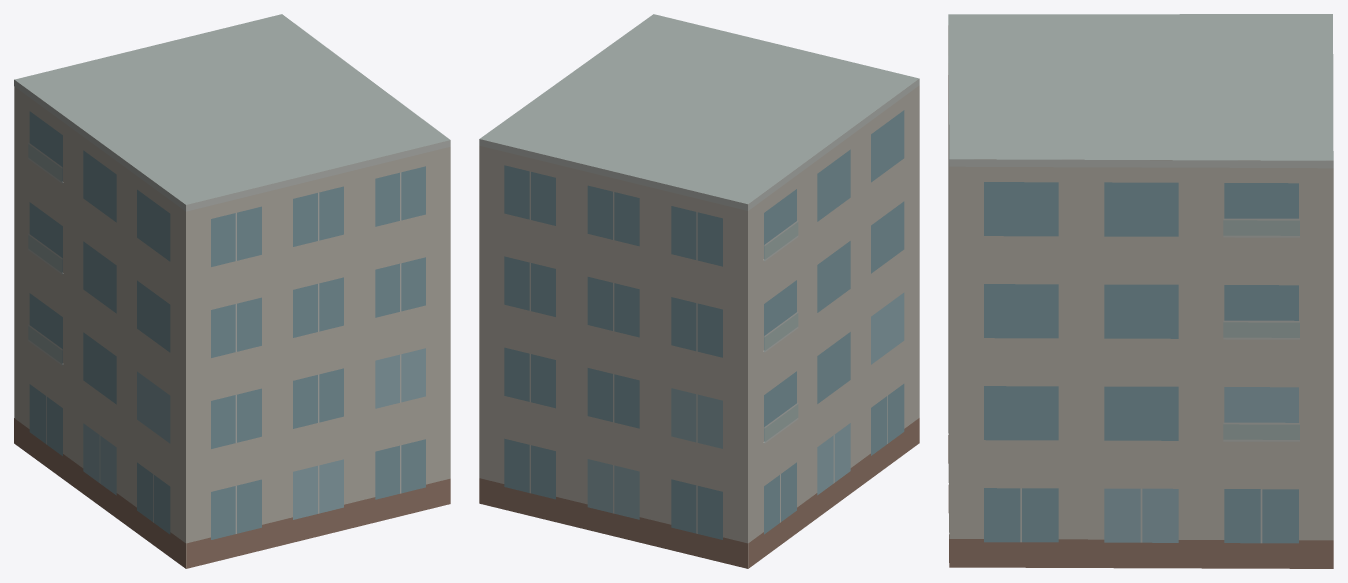
The model's file is survey-upis-32725337.glb.
The picture shows the model from 3 angles, left to right: view 1: azimuth 30°, elevation 25°; view 2: azimuth 150°, elevation 25°; view 3: azimuth 270°, elevation 25°; orthographic projection. The views are drawn at different scales.
Parts seen in each view (by area): view 1: survey-upis-32725337.tmp; view 2: survey-upis-32725337.tmp; view 3: survey-upis-32725337.tmp.
Part boxes in pixels (x1=…): survey-upis-32725337.tmp: x1=14, y1=14, x2=450, y2=568; survey-upis-32725337.tmp: x1=479, y1=14, x2=919, y2=568; survey-upis-32725337.tmp: x1=948, y1=14, x2=1333, y2=568.
Size of the model in its own units: 10.32 by 13.3 by 11.39.
